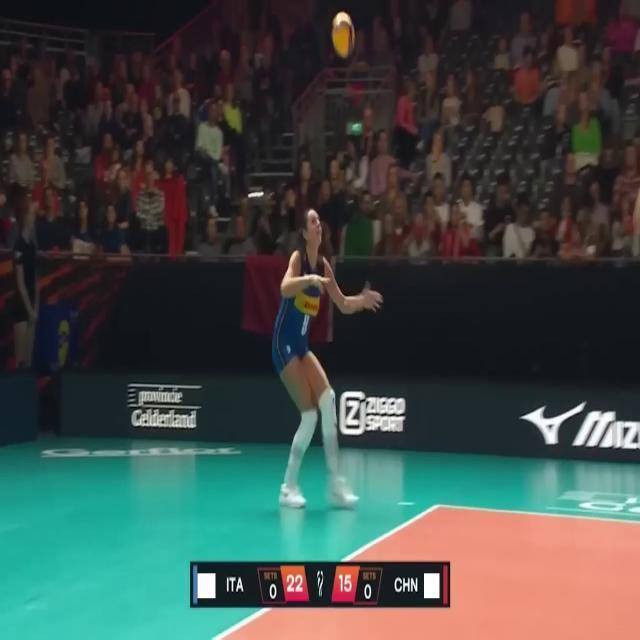volleyball: (331, 10, 354, 56)
